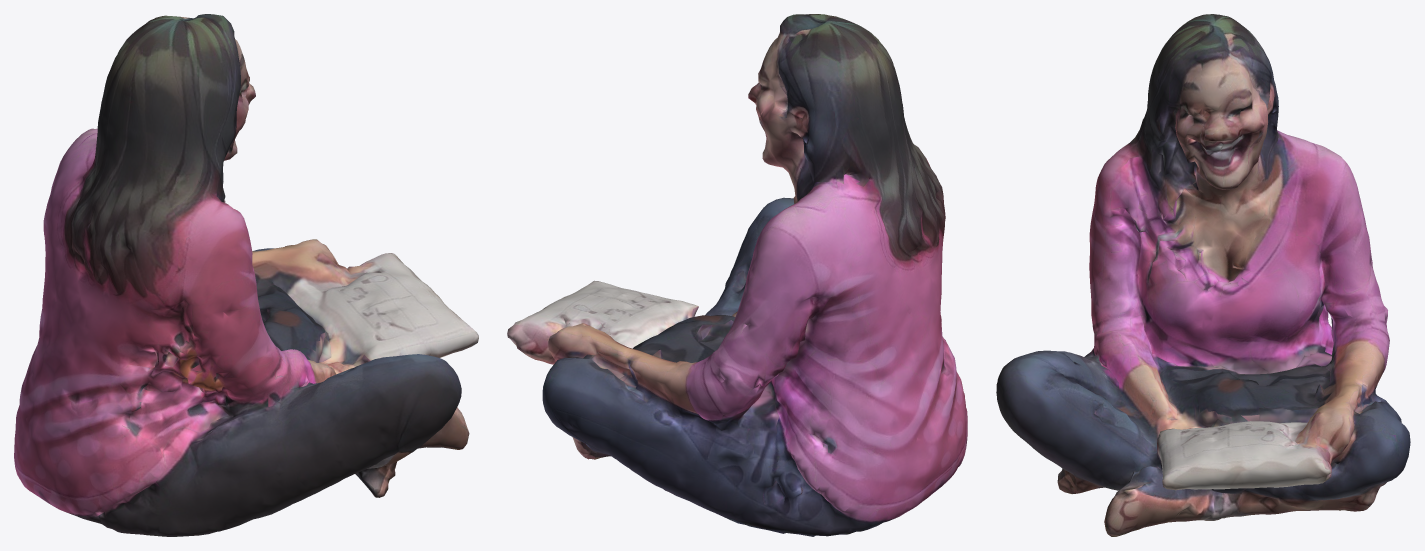
Rendered from model-two.glb.
3 renders of one model, left to right at view 1: azimuth 30°, elevation 25°; view 2: azimuth 150°, elevation 25°; view 3: azimuth 270°, elevation 25°, orthographic. The views are drawn at different scales.
Bounding box in the file's own units: 1.07 × 1.2 × 1.01.
1 material, 1 textured.
